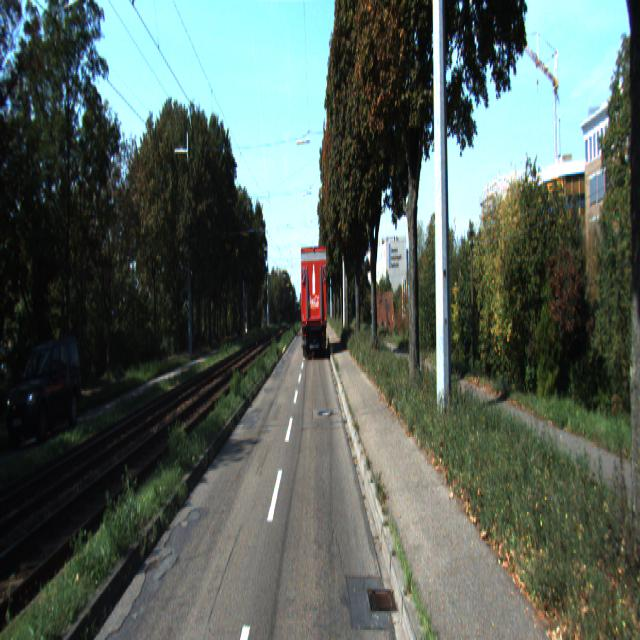Car: (5, 334, 86, 449), (299, 245, 329, 364)
